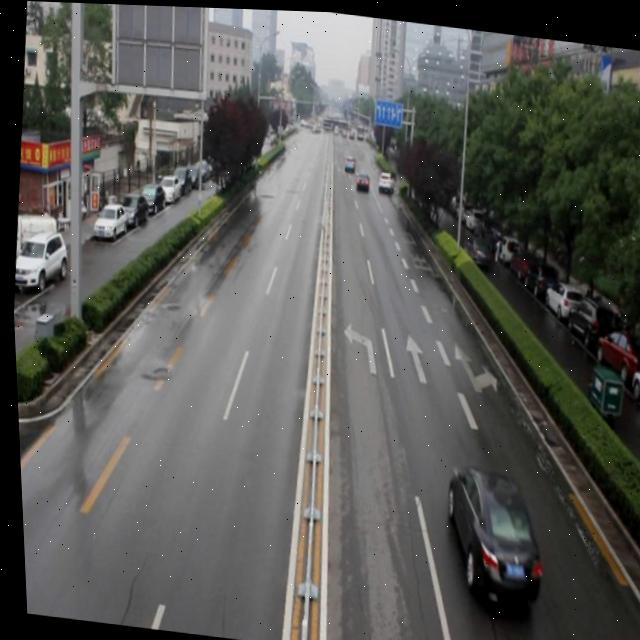car: (432, 458, 546, 605), (374, 167, 393, 192), (351, 169, 368, 188)
